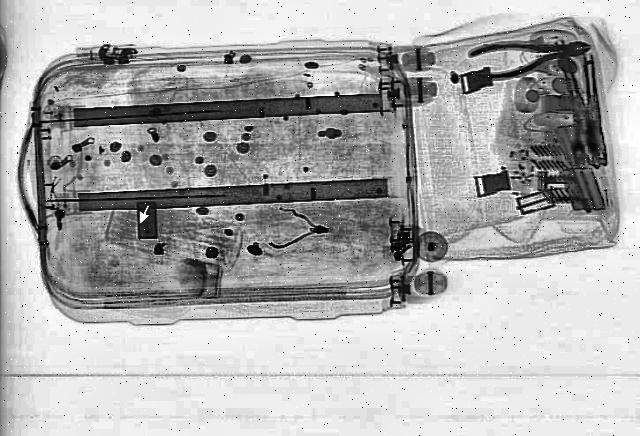Pliers: (463, 27, 597, 83)
